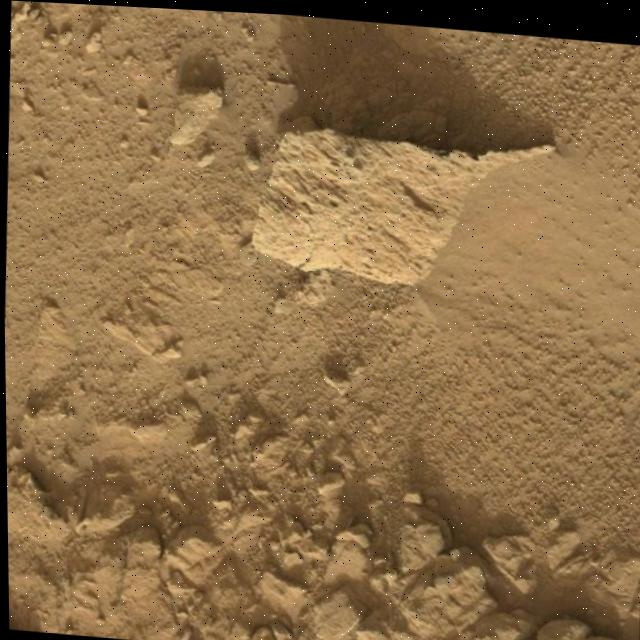mars-rocks: (253, 123, 553, 278)
